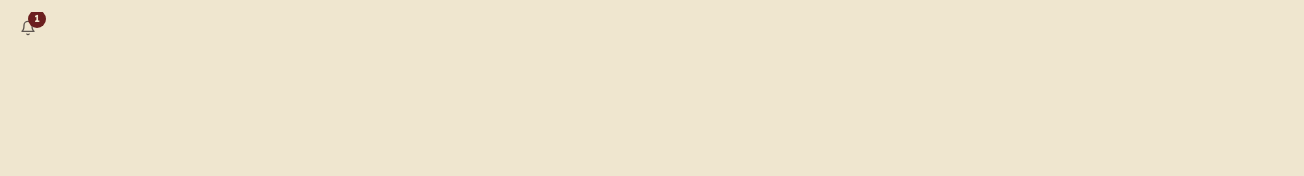
Test: opening the list › opens on the bell
Step 1. Click the button named "Notifications" → (28, 28), box [12,12,44,44]
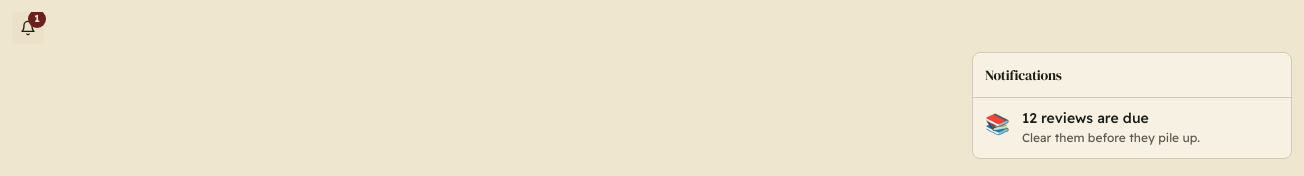
Check: the heading "Notifications" is shown, box [985,65,1062,85]
Check: the button with aria-label "Notification: 12 reviews are due" is shown, box [973,98,1291,158]
